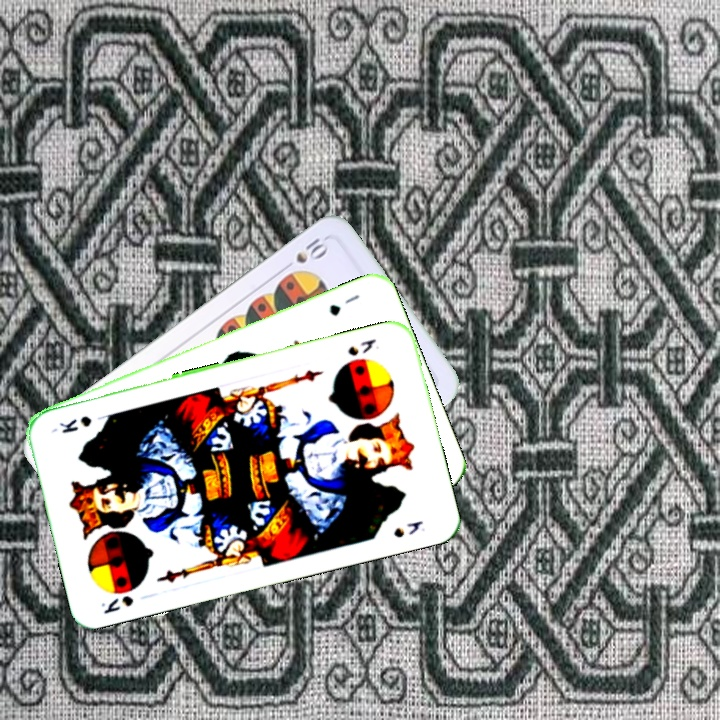GU: (325, 290, 362, 319)
S10: (291, 233, 331, 266)
SK: (96, 591, 136, 617), (344, 334, 379, 359)
